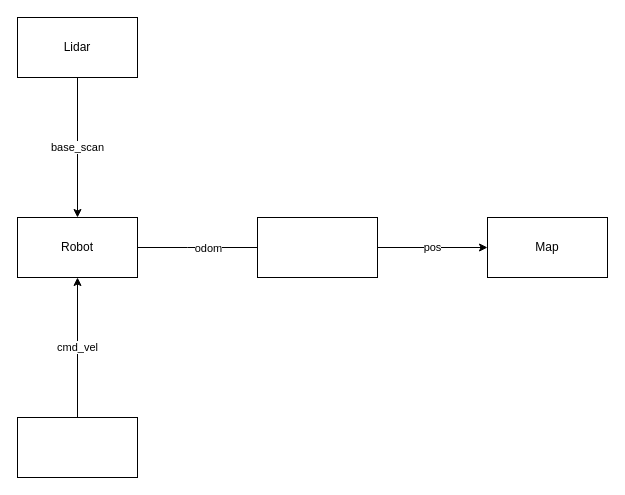
Some shapes in this 625 by 495 pixel diagram are drawn without their labels. Here are the shapes that lost their labels. From the top down, the centre of each, then its label:
At point (317, 247): "World".
At point (77, 447): "RobotKeys".
